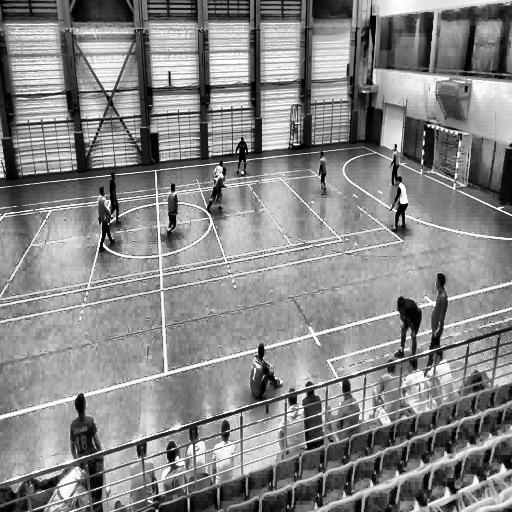ball: (239, 170, 246, 178)
player: (427, 272, 447, 358), (397, 296, 422, 361), (205, 166, 227, 216), (98, 186, 114, 251), (391, 175, 408, 232), (106, 171, 122, 228), (166, 181, 178, 238), (389, 140, 401, 189), (235, 134, 248, 176), (318, 150, 328, 195), (212, 160, 225, 183)
